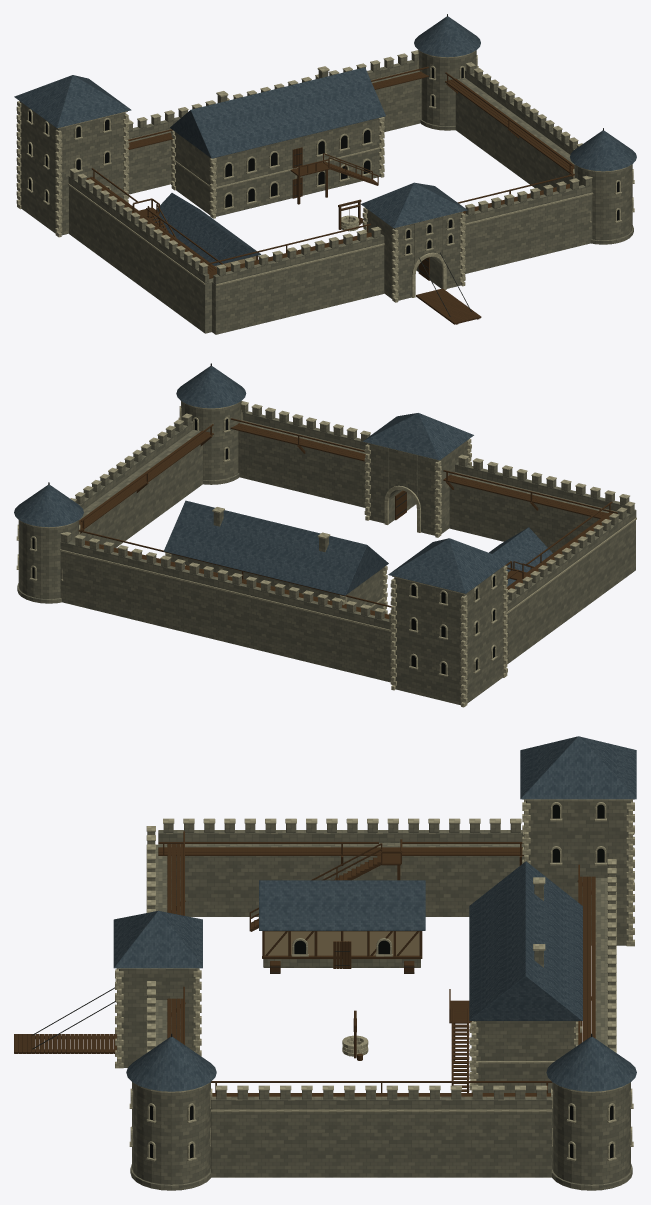
Rendered from fortress-eVNkKxUV.glb.
The picture shows the model from 3 angles, top to bottom: view 1: azimuth 30°, elevation 25°; view 2: azimuth 150°, elevation 25°; view 3: azimuth 270°, elevation 25°; orthographic projection. The views are drawn at different scales.
Parts seen in each view (by area): view 1: fortress__SW_stone, fortress__SW_slate, fortress__SW_limestone, fortress__SW_wood, fortress__SW_dark; view 2: fortress__SW_stone, fortress__SW_slate, fortress__SW_limestone, fortress__SW_wood, fortress__SW_dark; view 3: fortress__SW_stone, fortress__SW_slate, fortress__SW_wood, fortress__SW_limestone, fortress__SW_plaster, fortress__SW_dark.
Boxes of the visible parts, box(x1,y1,x2,y2) form: fortress__SW_stone: box(20, 50, 633, 334); fortress__SW_slate: box(14, 16, 636, 265); fortress__SW_limestone: box(16, 50, 634, 302); fortress__SW_wood: box(86, 66, 574, 324); fortress__SW_dark: box(29, 67, 619, 253); fortress__SW_stone: box(17, 401, 636, 705); fortress__SW_slate: box(14, 366, 552, 595); fortress__SW_limestone: box(16, 401, 636, 707); fortress__SW_wood: box(78, 418, 617, 618); fortress__SW_dark: box(32, 419, 494, 674); fortress__SW_stone: box(119, 800, 632, 1190); fortress__SW_slate: box(113, 736, 636, 1091); fortress__SW_wood: box(14, 831, 595, 1096); fortress__SW_limestone: box(115, 799, 634, 1161); fortress__SW_plaster: box(264, 931, 419, 955); fortress__SW_dark: box(150, 804, 613, 1158).
Size of the model in its own units: 52.88 by 15.8 by 47.45.
Materials: 7 (7 with a texture image).
